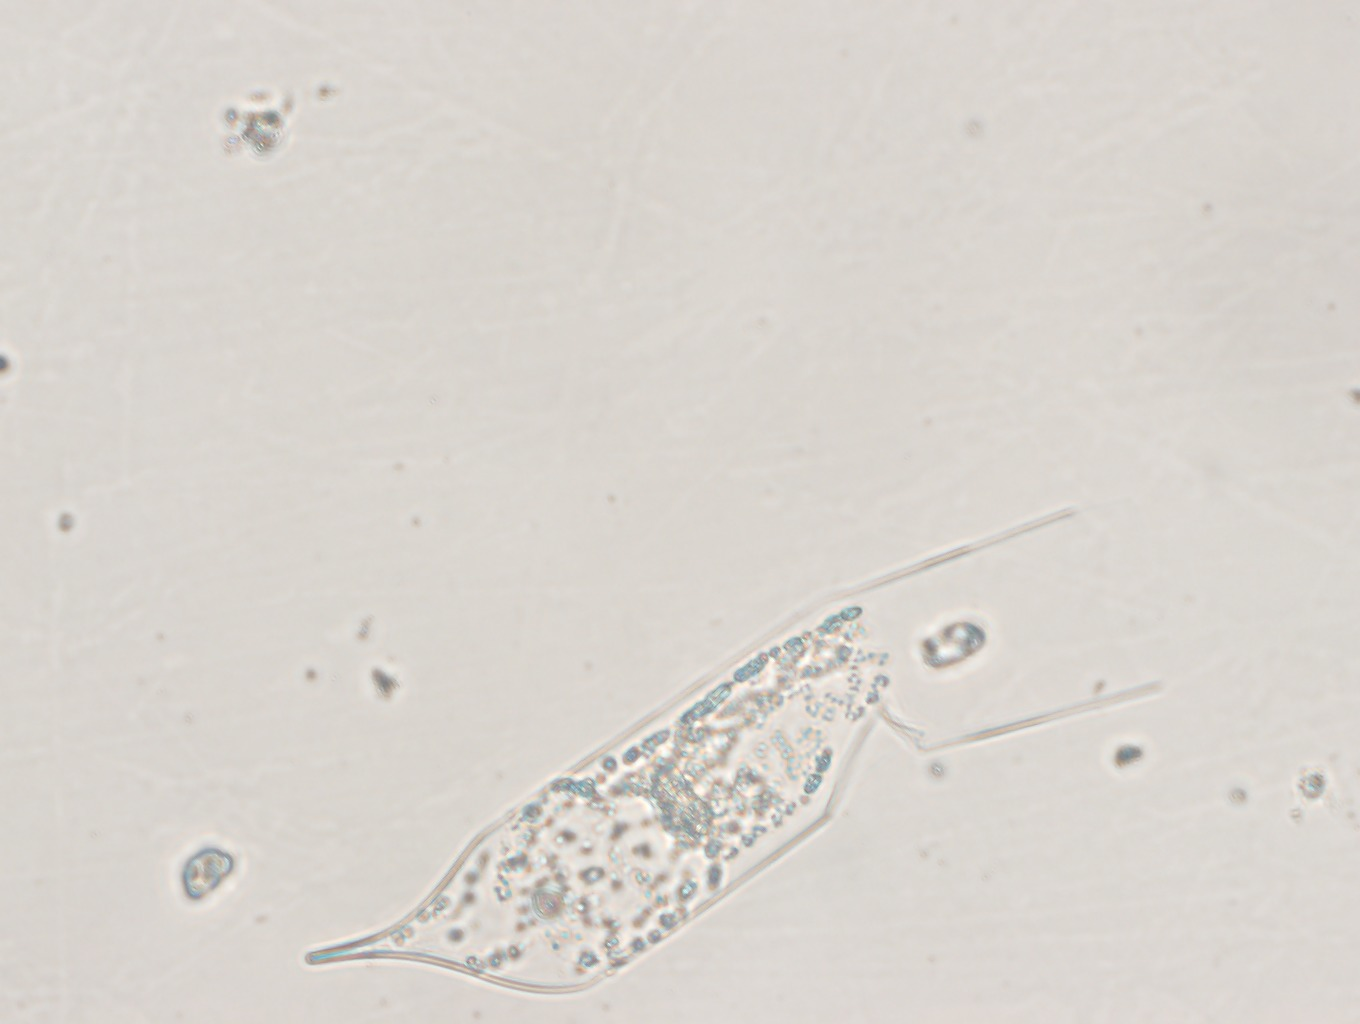rhizosolenia: (267, 510, 1212, 999)
